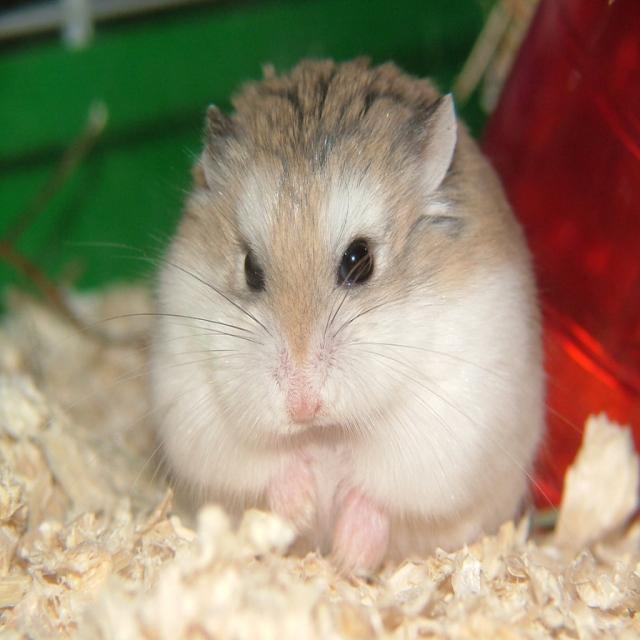rat: (144, 54, 552, 581)
